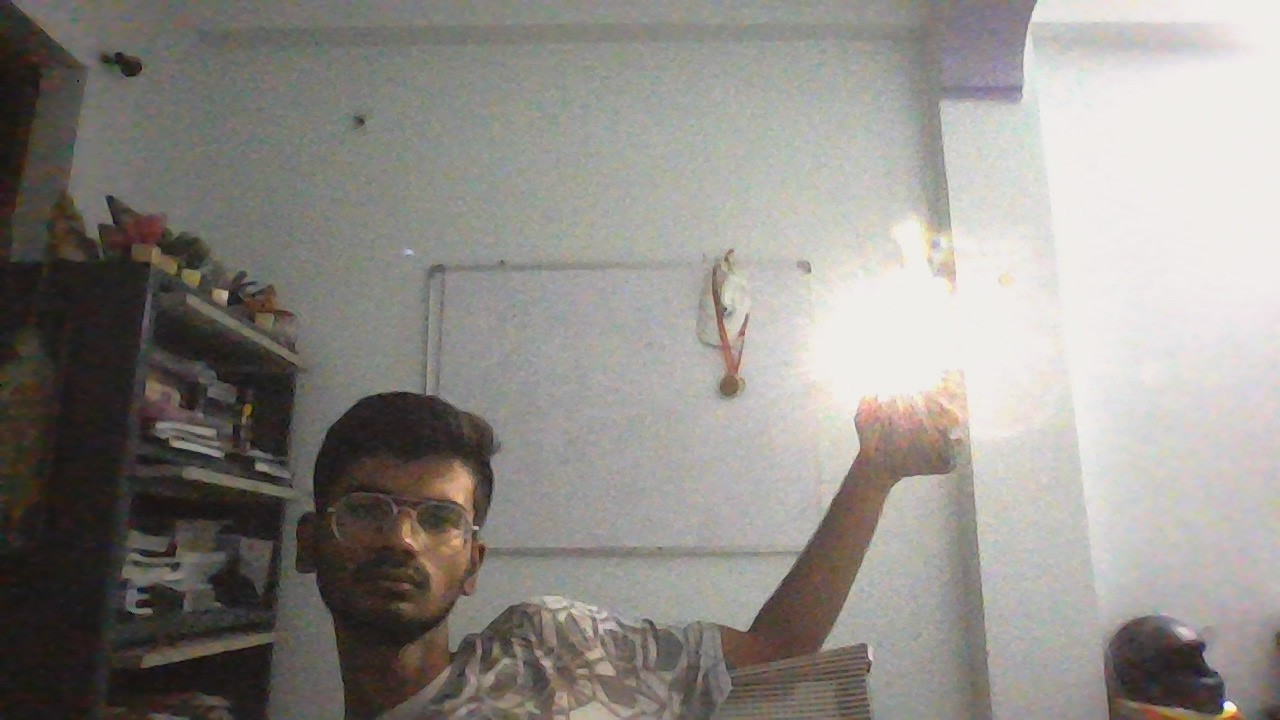Glare: (798, 277, 1010, 411)
